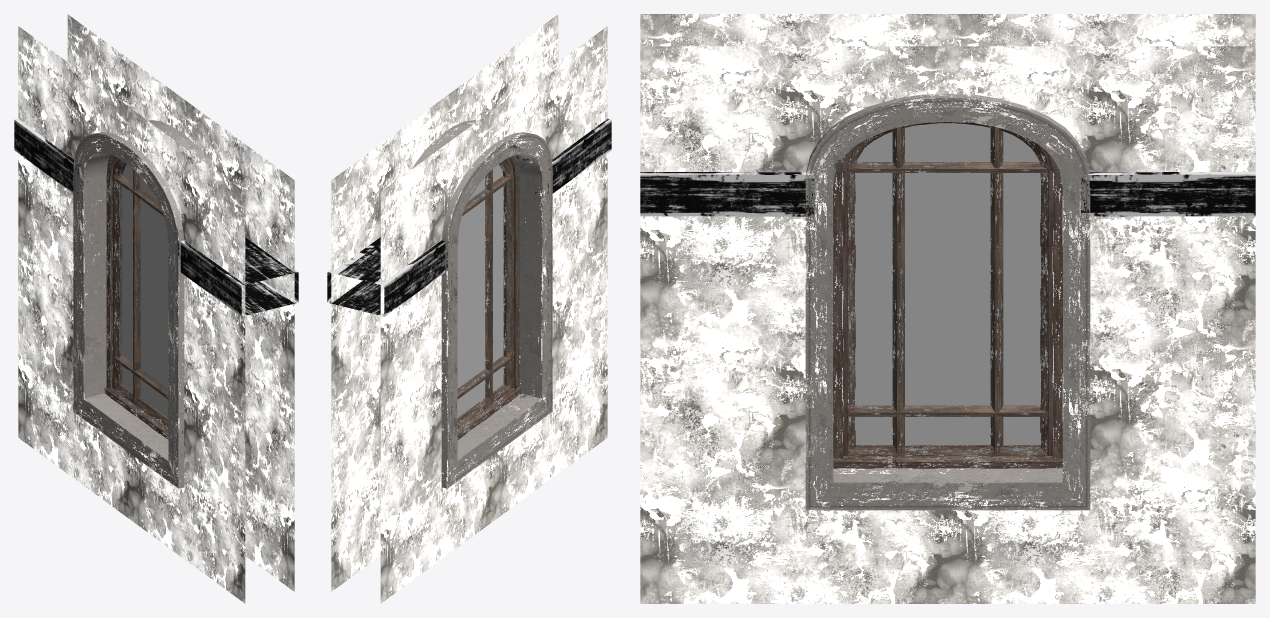
The model's file is SM_wall_A_window_4x4_03_02.fbx.
3 views of the same model, side by side, from view 1: azimuth 30°, elevation 25°; view 2: azimuth 150°, elevation 25°; view 3: azimuth 270°, elevation 25° (orthographic). The views are drawn at different scales.
Parts seen in each view (by area): view 1: SM_wall_A_window_4x4_03_02_LOD0; view 2: SM_wall_A_window_4x4_03_02_LOD0; view 3: SM_wall_A_window_4x4_03_02_LOD0.
Boxes of the visible parts, bbox=[...] form: SM_wall_A_window_4x4_03_02_LOD0: bbox=[14, 14, 298, 603]; SM_wall_A_window_4x4_03_02_LOD0: bbox=[327, 14, 611, 603]; SM_wall_A_window_4x4_03_02_LOD0: bbox=[640, 14, 1255, 603].
Size of the model in its own units: 62.17 by 400 by 400.
6 materials, 5 textured.
